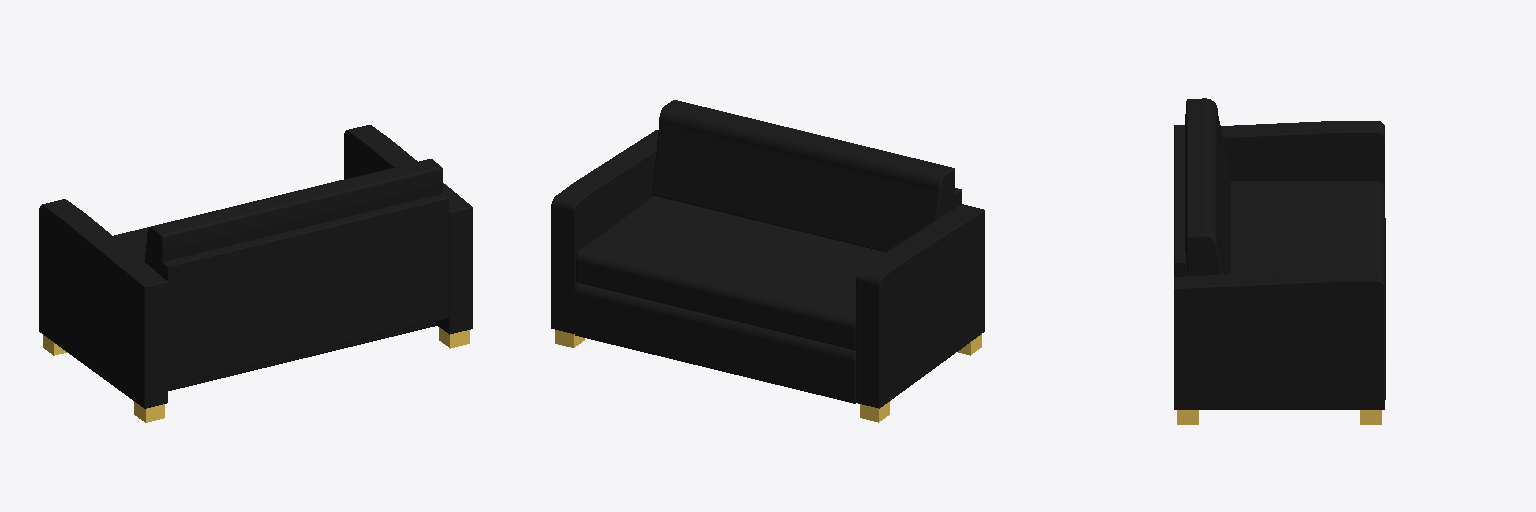
3 views of the same model, side by side, from view 1: azimuth 30°, elevation 25°; view 2: azimuth 150°, elevation 25°; view 3: azimuth 270°, elevation 25° (orthographic).
Visible parts, largest first — view 1: Mesh7 Component_5_1 ikea_sofa1 Model, Mesh4 Component_2_2 ikea_sofa1 Model, Mesh8 Component_6_1 ikea_sofa1 Model, Mesh2 Component_2_1 ikea_sofa1 Model, Mesh10 ikea_sofa1 Model, Mesh9 Component_7_1 ikea_sofa1 Model; view 2: Mesh8 Component_6_1 ikea_sofa1 Model, Mesh9 Component_7_1 ikea_sofa1 Model, Mesh4 Component_2_2 ikea_sofa1 Model, Mesh10 ikea_sofa1 Model, Mesh2 Component_2_1 ikea_sofa1 Model; view 3: Mesh2 Component_2_1 ikea_sofa1 Model, Mesh9 Component_7_1 ikea_sofa1 Model, Mesh4 Component_2_2 ikea_sofa1 Model, Mesh8 Component_6_1 ikea_sofa1 Model, Mesh7 Component_5_1 ikea_sofa1 Model.
Part boxes in pixels (x1,y1,x2,y2): Mesh7 Component_5_1 ikea_sofa1 Model: (161,194,448,386); Mesh4 Component_2_2 ikea_sofa1 Model: (39,199,167,408); Mesh8 Component_6_1 ikea_sofa1 Model: (144,159,442,274); Mesh2 Component_2_1 ikea_sofa1 Model: (344,125,472,334); Mesh10 ikea_sofa1 Model: (168,322,436,390); Mesh9 Component_7_1 ikea_sofa1 Model: (114,179,344,260); Mesh8 Component_6_1 ikea_sofa1 Model: (652,100,954,251); Mesh9 Component_7_1 ikea_sofa1 Model: (576,196,885,350); Mesh4 Component_2_2 ikea_sofa1 Model: (856,204,984,408); Mesh10 ikea_sofa1 Model: (575,283,855,403); Mesh2 Component_2_1 ikea_sofa1 Model: (551,130,657,333); Mesh2 Component_2_1 ikea_sofa1 Model: (1174,269,1384,409); Mesh9 Component_7_1 ikea_sofa1 Model: (1231,181,1384,273); Mesh4 Component_2_2 ikea_sofa1 Model: (1221,121,1384,186); Mesh8 Component_6_1 ikea_sofa1 Model: (1185,98,1230,275); Mesh7 Component_5_1 ikea_sofa1 Model: (1174,125,1187,276).
Bounding box in the file's own units: 1366 × 712 × 763.